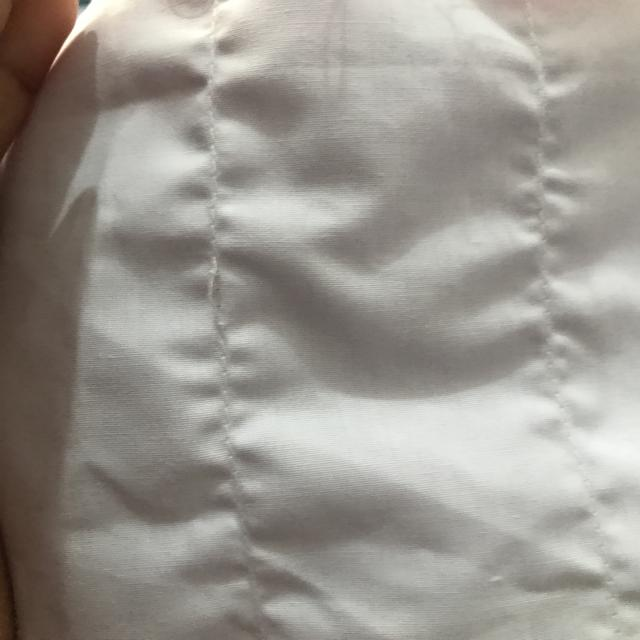skip: (179, 255, 243, 319)
